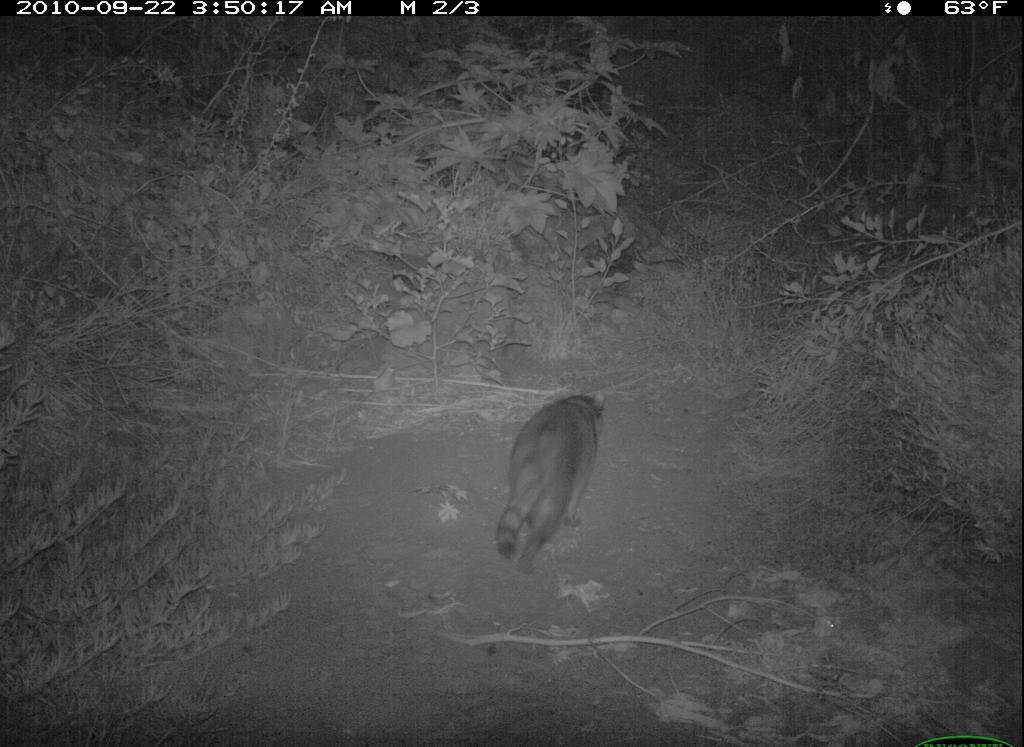raccoon: (484, 376, 621, 577)
